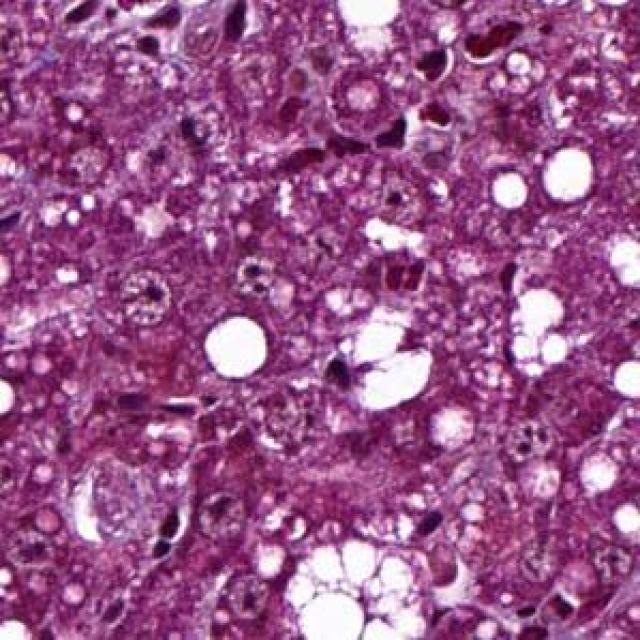ballooning: (280, 531, 434, 640), (314, 306, 434, 409), (507, 282, 576, 388), (195, 308, 276, 383)
